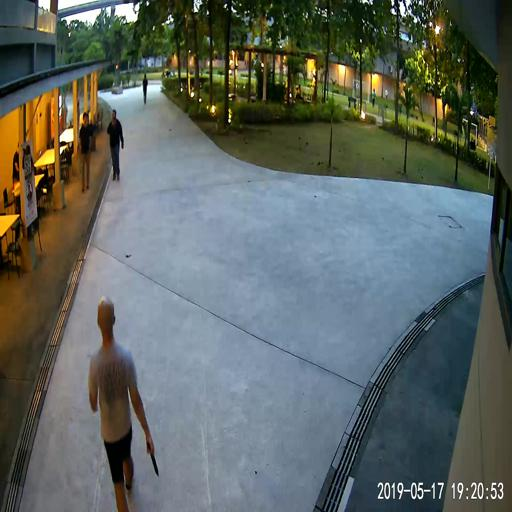pistol: (145, 436, 158, 476)
